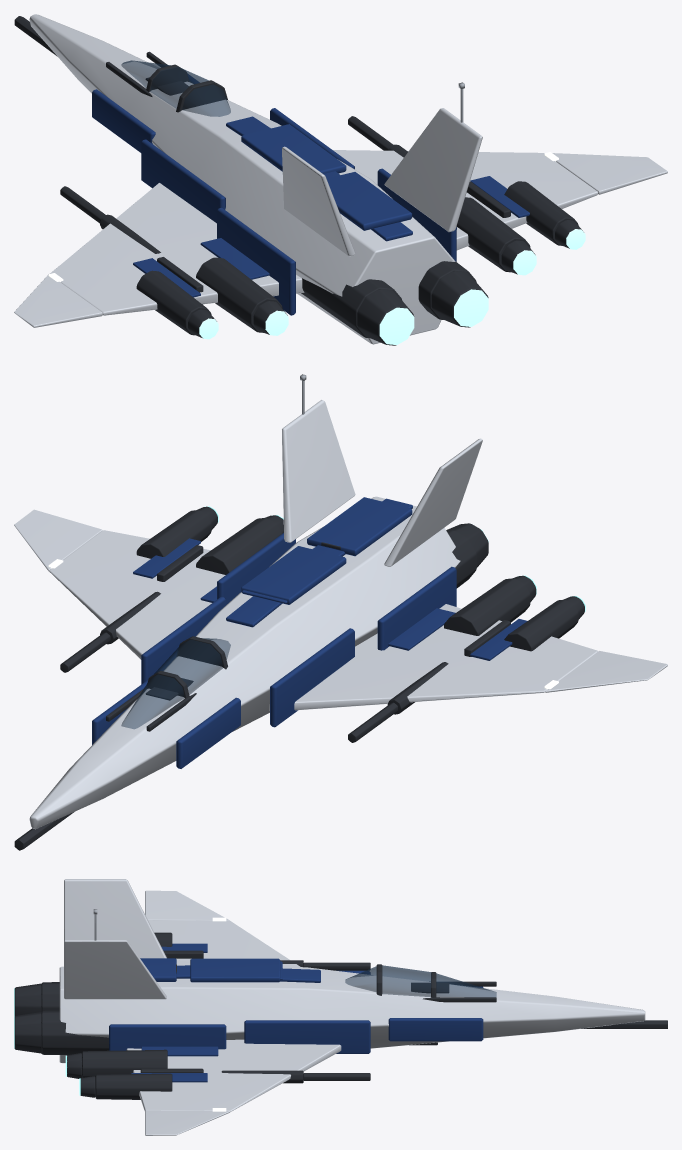
File: kestrel.glb
3 renders of one model, top to bottom at view 1: azimuth 30°, elevation 25°; view 2: azimuth 150°, elevation 25°; view 3: azimuth 270°, elevation 25°, orthographic. The views are drawn at different scales.
Visible parts, largest first — view 1: hull, wing_L, T1_armor_plate_L, tail_fin_R, T2_engine_pod_L, wing_R, T2_engine_pod_R, T1_dorsal_armor, tail_fin_L, engine_L, canopy_glass, T3_wing_extension_R (+13 smaller); view 2: hull, wing_L, wing_R, T1_armor_plate_L, tail_fin_R, T1_dorsal_armor, T2_engine_pod_L, T2_engine_pod_R, T1_armor_plate_R, tail_fin_L, canopy_glass, T3_wing_extension_R (+8 smaller); view 3: hull, T1_armor_plate_R, wing_R, tail_fin_L, tail_fin_R, T2_engine_pod_R, wing_L, T1_dorsal_armor, engine_R, canopy_glass, T3_wing_extension_L, T3_wing_extension_R (+9 smaller).
Boxes of the visible parts, x1,y1,x2,y2 form: hull: (29,14,455,344); wing_L: (50,183,304,315); T1_armor_plate_L: (92,89,295,315); tail_fin_R: (384,108,482,231); T2_engine_pod_L: (136,257,287,337); wing_R: (333,150,598,250); T2_engine_pod_R: (456,181,582,274); T1_dorsal_armor: (241,124,412,230); tail_fin_L: (282,146,355,256); engine_L: (301,278,414,345); canopy_glass: (121,60,230,116); T3_wing_extension_R: (552,153,667,194); hull: (29,496,460,829); wing_L: (269,604,597,710); wing_R: (49,530,225,659); T1_armor_plate_L: (176,566,456,768); tail_fin_R: (282,400,355,542); T1_dorsal_armor: (241,497,412,604); T2_engine_pod_L: (444,575,584,656); T2_engine_pod_R: (136,506,283,581); T1_armor_plate_R: (92,533,295,744); tail_fin_L: (384,438,482,566); canopy_glass: (121,638,230,729); T3_wing_extension_R: (14,509,102,571); hull: (59,960,645,1063); T1_armor_plate_R: (109,1018,483,1053); wing_R: (126,1039,341,1111); tail_fin_L: (64,879,166,958); tail_fin_R: (64,940,166,999); T2_engine_pod_R: (67,1049,203,1099); wing_L: (148,920,300,966); T1_dorsal_armor: (140,958,280,982); engine_R: (14,1010,108,1055); canopy_glass: (345,965,496,997); T3_wing_extension_L: (145,890,229,920); T3_wing_extension_R: (145,1110,230,1135).
Size of what is drawn, in the model's own units: 12.8 by 4.2 by 14.51.
